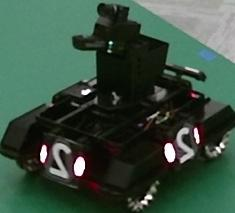armor_2: (40, 144, 86, 177), (165, 127, 200, 162)
